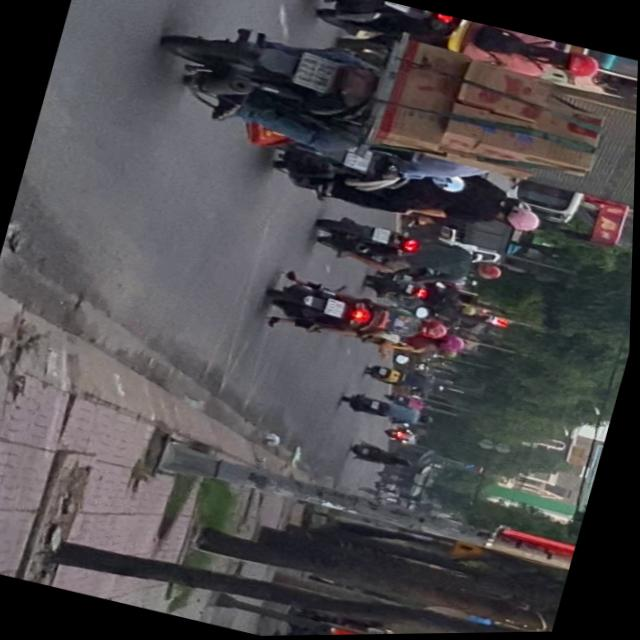helmet: (552, 47, 604, 84), (493, 202, 545, 237), (418, 317, 452, 343), (439, 331, 470, 358)
licenseplate: (142, 0, 622, 222), (253, 123, 554, 256), (295, 0, 608, 99), (250, 262, 483, 381)
nohelmet: (293, 52, 339, 94), (324, 298, 347, 319)
